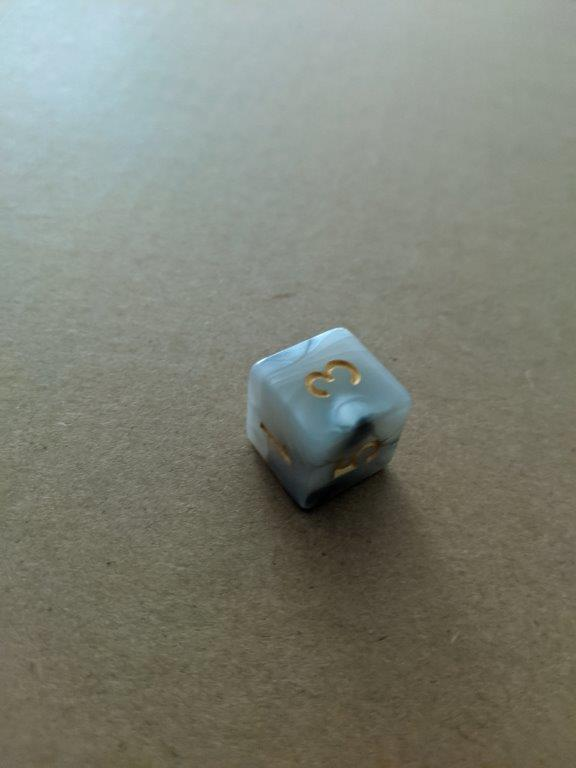d6-3: (246, 323, 411, 506)
